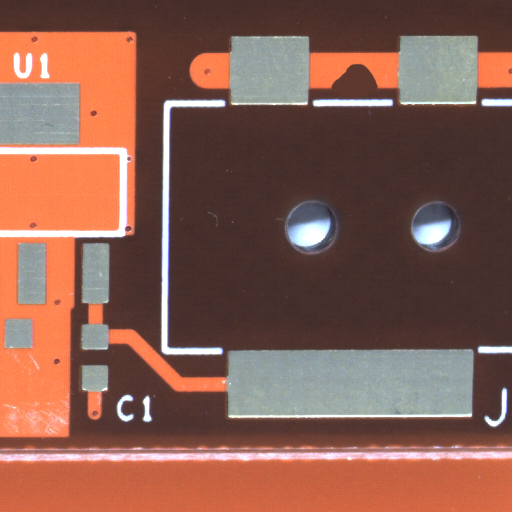Mouse_bite: (354, 79, 409, 112)
